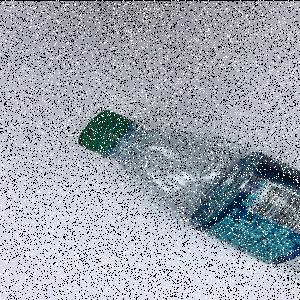Plastic-bottle: (77, 109, 300, 281)
